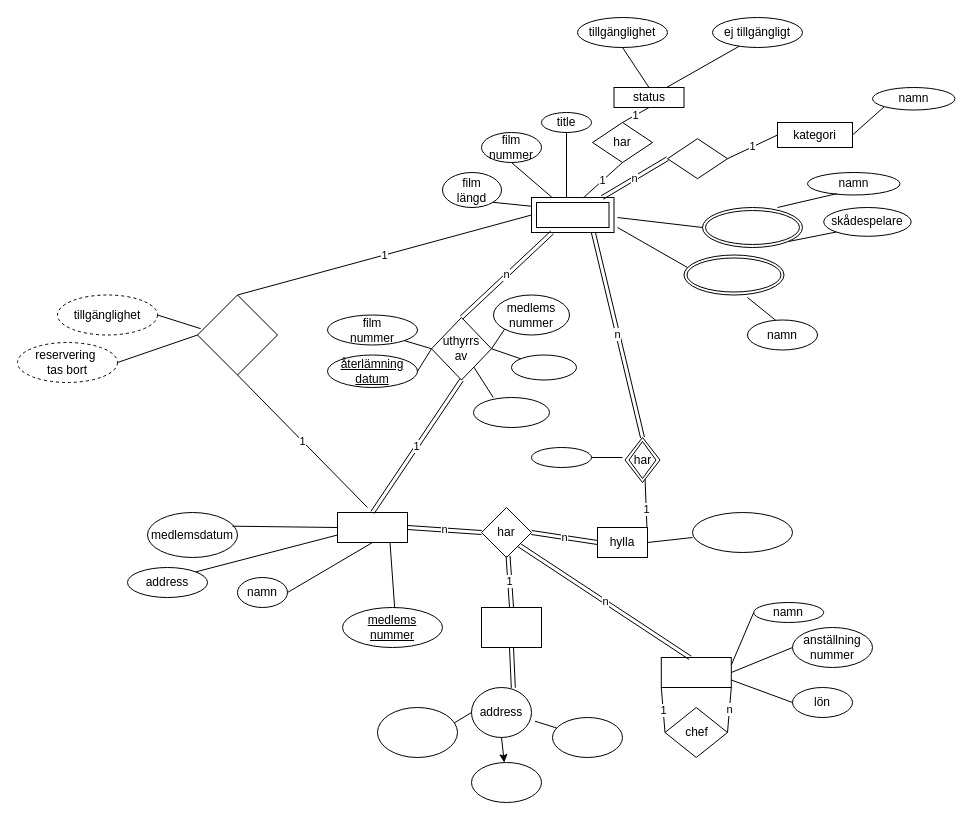
This 973x820 diagram has some shape labels left out. Here are the shapes that lost their labels. From the top down, the centre of each, then its label:
point (697, 158): ha
point (572, 214): filmer
point (752, 227): regissörer
point (733, 274): aktörer
point (237, 334): kan reservera
point (543, 367): Id
point (511, 412): uthyrning datum
point (561, 457): pris
point (372, 527): medlemar
point (742, 532): hyll nummer
point (511, 627): butik
point (695, 672): personal
point (417, 732): husnummer
point (587, 737): gatan address
point (506, 782): postnummer
